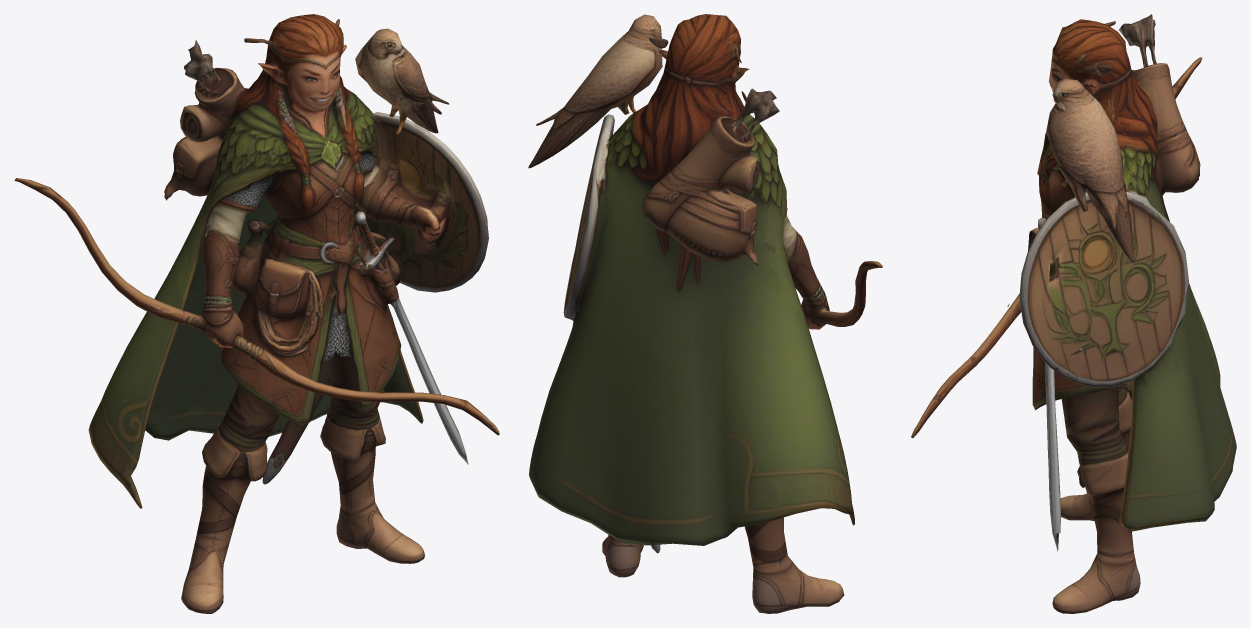
File: Patrulheiro.glb
The picture shows the model from 3 angles, left to right: view 1: azimuth 30°, elevation 25°; view 2: azimuth 150°, elevation 25°; view 3: azimuth 270°, elevation 25°; orthographic projection. The views are drawn at different scales.
Parts seen in each view (by area): view 1: tripo_node_c923c2d8-2381-45ca-abf9-244c3e00c088; view 2: tripo_node_c923c2d8-2381-45ca-abf9-244c3e00c088; view 3: tripo_node_c923c2d8-2381-45ca-abf9-244c3e00c088.
Part boxes in pixels (bbox=[...]): tripo_node_c923c2d8-2381-45ca-abf9-244c3e00c088: bbox=[14, 14, 499, 613]; tripo_node_c923c2d8-2381-45ca-abf9-244c3e00c088: bbox=[528, 14, 882, 613]; tripo_node_c923c2d8-2381-45ca-abf9-244c3e00c088: bbox=[911, 14, 1236, 613].
Size of the model in its own units: 0.7191 by 0.9815 by 0.5364.
1 material, 1 textured.
